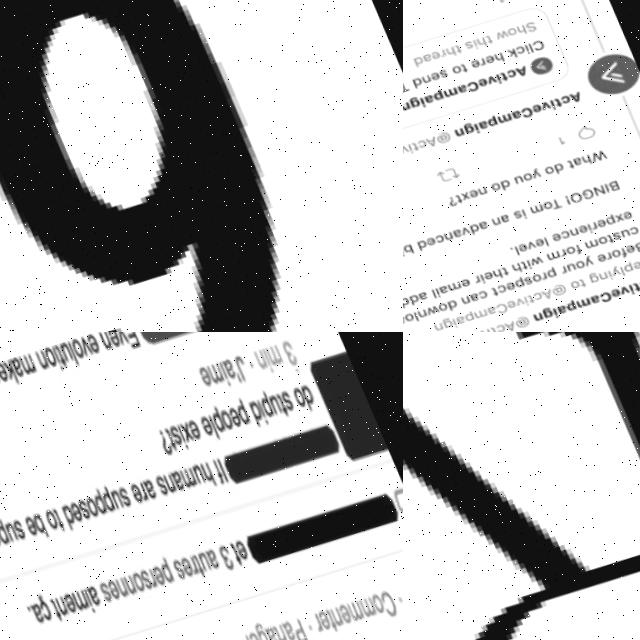3: (210, 537, 232, 570), (277, 332, 299, 363)
6: (0, 0, 365, 332)
A: (532, 283, 548, 296), (564, 85, 580, 98), (511, 60, 526, 72), (496, 315, 509, 328), (567, 150, 580, 162), (421, 132, 434, 144), (581, 288, 594, 299), (548, 299, 561, 310), (445, 224, 458, 235), (506, 104, 519, 115), (479, 301, 490, 311), (410, 287, 421, 297), (494, 209, 505, 219), (448, 311, 459, 320), (431, 281, 442, 290), (454, 80, 465, 89), (420, 91, 431, 100), (462, 288, 472, 297), (473, 216, 482, 226), (474, 115, 484, 124), (420, 49, 430, 58)
B: (602, 173, 616, 186), (627, 234, 640, 247), (403, 238, 409, 252)
C: (590, 285, 606, 298), (515, 101, 531, 114), (529, 34, 543, 48), (487, 297, 501, 310), (463, 76, 477, 89), (524, 285, 537, 297), (469, 284, 482, 296), (488, 279, 501, 290), (553, 224, 566, 235), (427, 229, 440, 240), (511, 39, 524, 50), (623, 219, 635, 230), (556, 89, 569, 99), (502, 64, 515, 74), (412, 135, 424, 145), (487, 319, 498, 329), (631, 272, 640, 284), (449, 329, 465, 332)
D: (547, 156, 561, 170), (409, 50, 423, 64), (439, 295, 453, 308), (409, 235, 423, 248), (494, 174, 508, 187), (463, 218, 475, 231), (409, 73, 421, 86), (403, 289, 414, 302)
E: (571, 218, 584, 230), (602, 281, 615, 292), (481, 49, 494, 60), (510, 237, 522, 248), (527, 97, 539, 108), (474, 73, 486, 84), (625, 254, 638, 264), (616, 204, 629, 214), (462, 184, 475, 194), (466, 54, 479, 64), (499, 294, 510, 305), (419, 232, 430, 243), (498, 276, 510, 286), (476, 266, 488, 276), (590, 213, 602, 223), (427, 67, 438, 77), (619, 238, 629, 248), (590, 248, 601, 257), (453, 274, 464, 283), (545, 228, 556, 237), (528, 233, 539, 242), (427, 46, 438, 55), (460, 327, 471, 332)
F: (567, 238, 577, 250), (613, 241, 622, 252)
G: (575, 182, 591, 195), (533, 301, 547, 315), (580, 265, 594, 279), (458, 116, 472, 130), (432, 312, 446, 325), (405, 92, 419, 105)
H: (504, 257, 518, 270), (473, 32, 485, 44), (491, 47, 502, 60), (485, 264, 496, 276), (577, 148, 588, 160), (443, 41, 454, 53), (515, 20, 524, 30)
I: (444, 313, 451, 324), (427, 283, 434, 294), (469, 118, 476, 129), (621, 278, 628, 288), (545, 303, 552, 313), (600, 265, 607, 275), (515, 292, 522, 302), (472, 270, 479, 280), (546, 94, 553, 104), (492, 70, 499, 80), (521, 39, 528, 49), (470, 35, 477, 45), (519, 254, 525, 264), (581, 218, 587, 228), (515, 204, 521, 214), (416, 93, 422, 103), (403, 139, 409, 149), (599, 178, 605, 188), (478, 323, 484, 332)
K: (504, 43, 515, 55)
L: (612, 260, 619, 271), (405, 308, 412, 318), (424, 285, 431, 295), (525, 38, 532, 48), (538, 232, 543, 242), (508, 241, 513, 251)
M: (439, 82, 456, 94), (568, 291, 584, 303), (465, 304, 482, 315), (577, 233, 594, 244), (439, 276, 456, 287), (493, 108, 510, 119), (524, 198, 539, 210), (540, 245, 554, 256)
N: (588, 178, 602, 191), (524, 307, 537, 317), (450, 123, 462, 133), (425, 318, 436, 328), (485, 212, 496, 222), (437, 227, 448, 237), (592, 265, 602, 275), (409, 305, 420, 314), (563, 222, 574, 231), (418, 70, 429, 79), (454, 291, 464, 300), (472, 182, 482, 191), (403, 97, 408, 108)
O: (563, 185, 579, 199), (558, 240, 571, 251), (484, 177, 497, 188), (447, 60, 460, 71), (504, 21, 517, 32), (604, 242, 616, 253), (567, 254, 580, 264), (590, 230, 603, 240), (538, 160, 551, 170), (537, 195, 549, 205), (525, 268, 536, 278), (563, 275, 574, 284), (518, 167, 529, 176), (430, 299, 441, 307), (403, 308, 408, 318)
P: (556, 293, 570, 307), (427, 84, 441, 98), (597, 208, 611, 221), (506, 271, 518, 284), (455, 306, 467, 318), (482, 111, 495, 122), (616, 255, 627, 267), (539, 261, 550, 273)
R: (403, 332, 640, 640), (633, 250, 640, 264), (552, 260, 561, 269), (436, 44, 444, 53), (598, 246, 606, 254), (467, 271, 475, 279), (584, 216, 592, 224), (476, 53, 484, 61), (553, 243, 560, 252), (534, 267, 541, 275)
S: (522, 15, 536, 28), (435, 64, 446, 75), (507, 205, 517, 215), (605, 226, 616, 235), (462, 35, 471, 46), (517, 271, 527, 280)
T: (544, 192, 558, 205), (626, 276, 635, 286), (550, 92, 559, 102), (482, 321, 490, 332), (520, 289, 528, 300), (497, 66, 505, 77), (452, 39, 460, 49), (572, 273, 580, 282), (495, 262, 503, 271), (562, 154, 570, 163), (450, 190, 458, 199), (458, 59, 466, 68), (483, 30, 491, 39), (484, 283, 491, 292), (601, 228, 608, 237), (514, 256, 521, 265), (407, 138, 414, 147), (403, 77, 407, 90)
U: (559, 257, 570, 266), (614, 223, 625, 232), (508, 170, 519, 179)
V: (481, 69, 496, 80), (611, 279, 624, 290), (506, 292, 519, 302), (535, 95, 548, 105), (519, 235, 530, 245), (454, 222, 464, 231), (469, 325, 479, 332)
W: (584, 143, 603, 158), (417, 300, 434, 313), (523, 250, 538, 262), (492, 24, 507, 35)
X: (609, 207, 619, 217), (455, 187, 465, 196)
Y: (575, 249, 589, 262), (525, 162, 536, 175), (603, 260, 614, 271)
